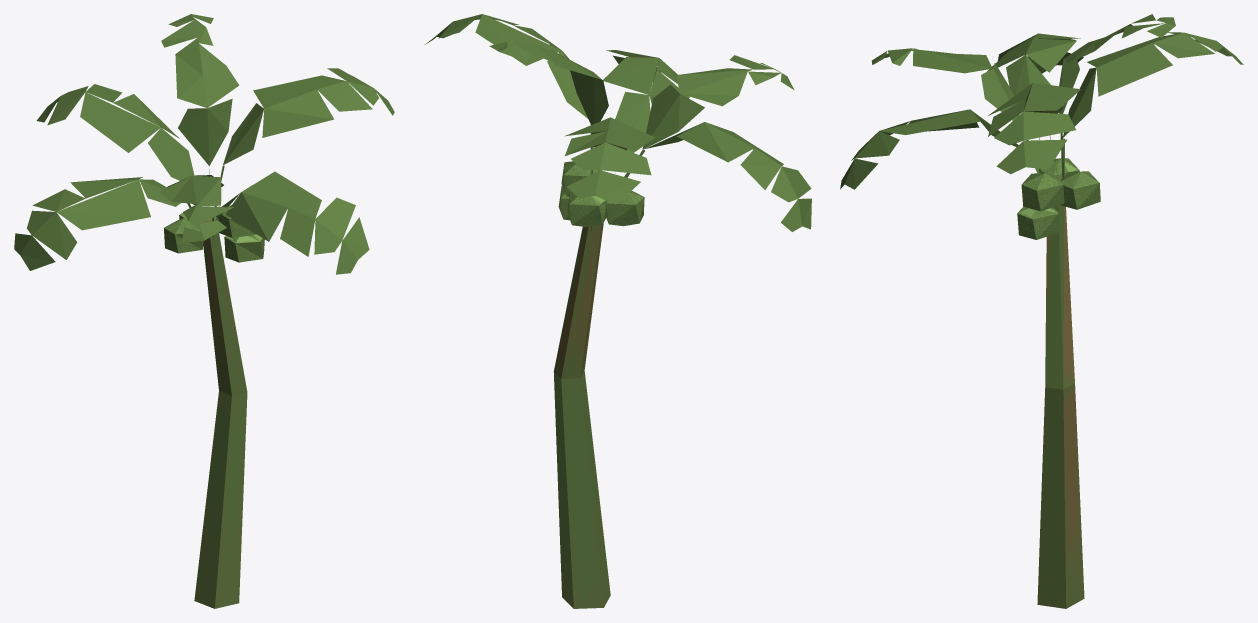
Rendered from Vegetation_Tree_Palm_Coconuts_04.fbx.
The picture shows the model from 3 angles, left to right: view 1: azimuth 30°, elevation 25°; view 2: azimuth 150°, elevation 25°; view 3: azimuth 270°, elevation 25°; orthographic projection. The views are drawn at different scales.
Visible parts, largest first — view 1: Vegetation_Tree_Palm_Coconuts_04; view 2: Vegetation_Tree_Palm_Coconuts_04; view 3: Vegetation_Tree_Palm_Coconuts_04.
Boxes of the visible parts, left/top/right/bottom form: Vegetation_Tree_Palm_Coconuts_04: left=14, top=14, right=394, bottom=608; Vegetation_Tree_Palm_Coconuts_04: left=425, top=14, right=811, bottom=608; Vegetation_Tree_Palm_Coconuts_04: left=840, top=14, right=1243, bottom=608.
Size of the model in its own units: 4017 by 5856 by 3635.
